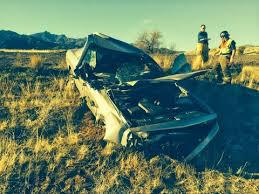bonnet-dent: (118, 72, 203, 90)
